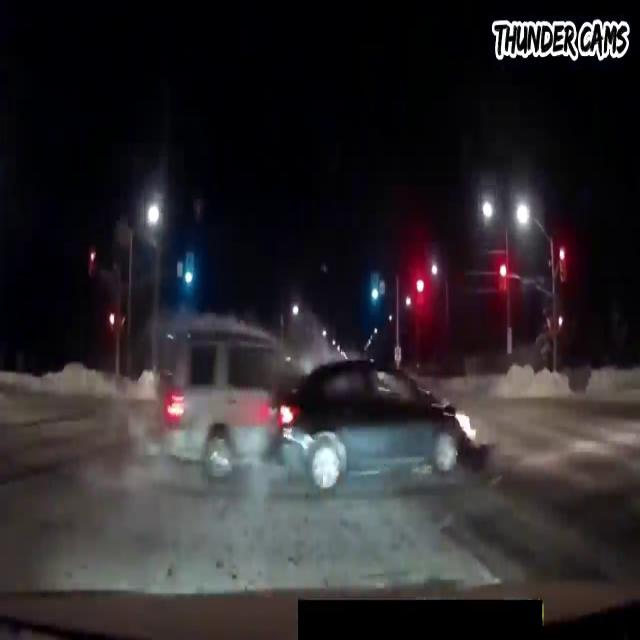accident: (157, 306, 507, 521)
